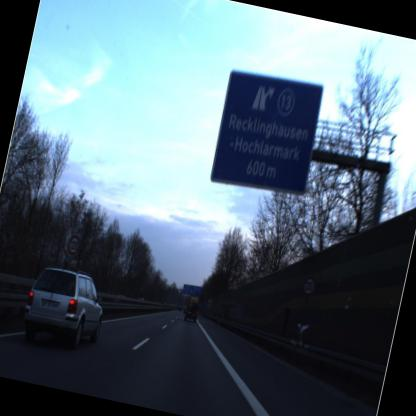prohibitory: (61, 218, 88, 262), (299, 266, 321, 301)
